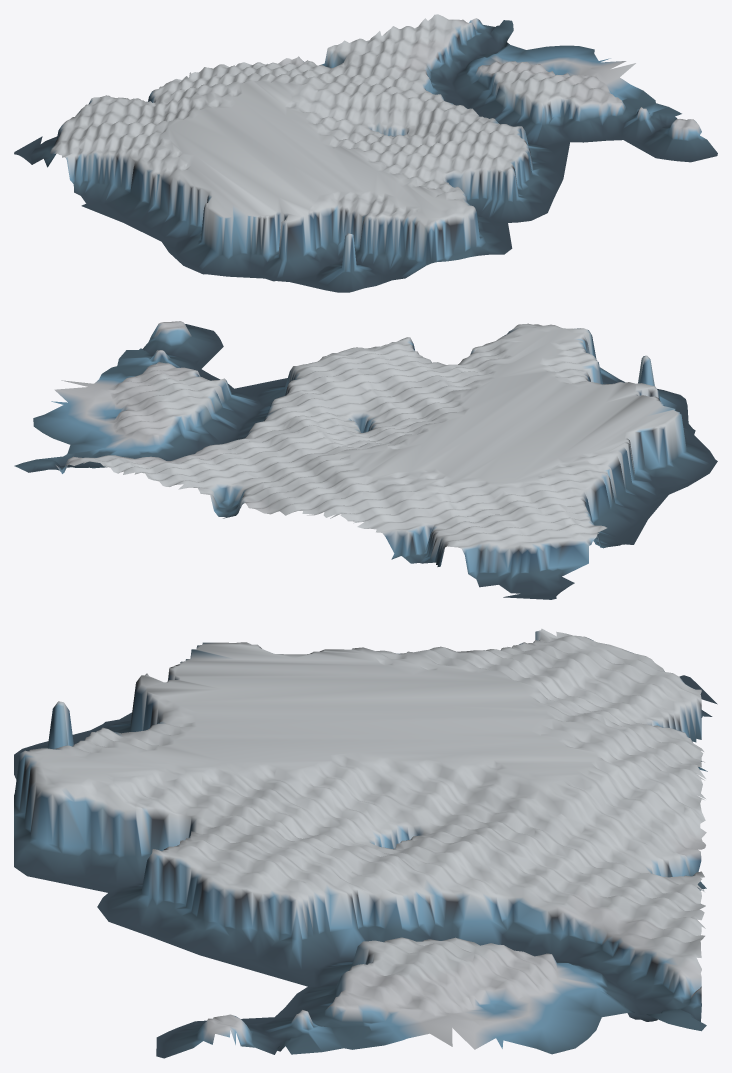
Rendered from frost_tile_x2z1_lod1.glb.
3 views of the same model, one above another, from view 1: azimuth 30°, elevation 25°; view 2: azimuth 150°, elevation 25°; view 3: azimuth 270°, elevation 25° (orthographic). The views are drawn at different scales.
Visible parts, largest first — view 1: geometry_0; view 2: geometry_0; view 3: geometry_0.
Part boxes in pixels (<box>): geometry_0: <box>14,14,717,292</box>; geometry_0: <box>14,321,717,599</box>; geometry_0: <box>14,628,717,1058</box>.
Size of the model in its own units: 1016 by 78.3 by 762.
